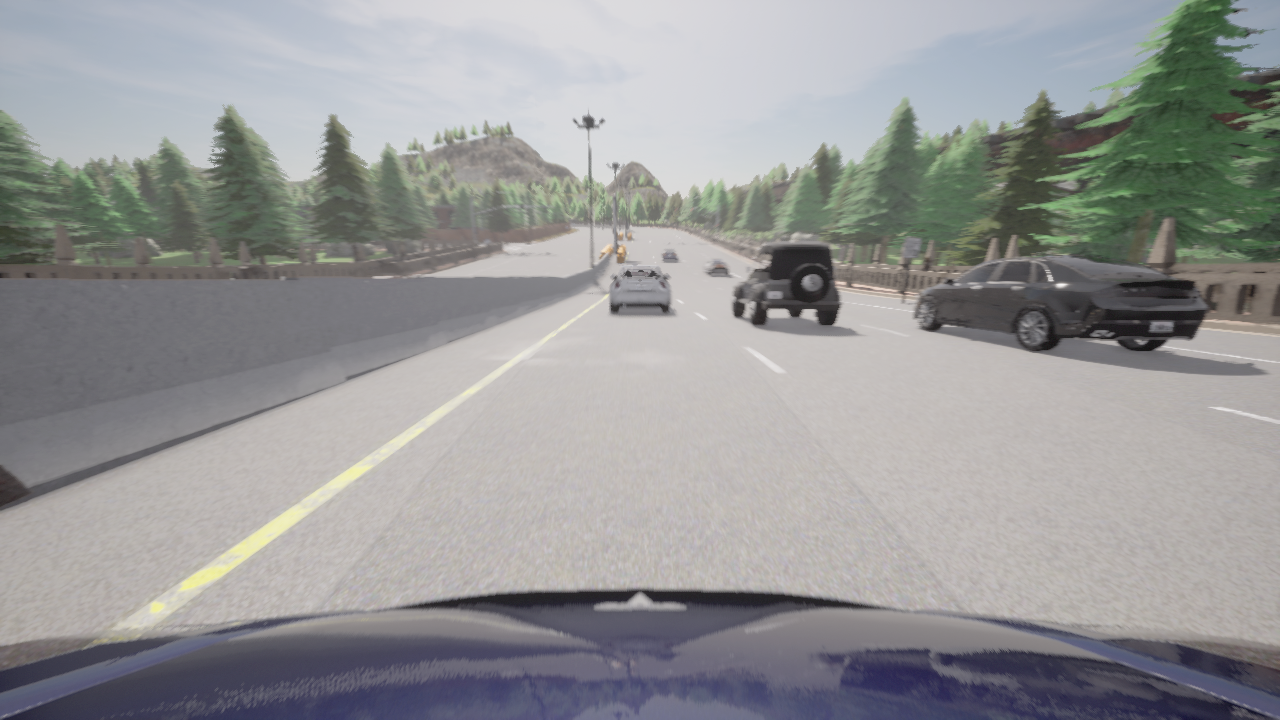cyclist: (0, 588, 1279, 719), (913, 254, 1207, 351), (731, 242, 841, 325), (609, 265, 670, 312), (703, 258, 729, 275), (660, 248, 677, 260)
pedestrian: (923, 257, 929, 270)
